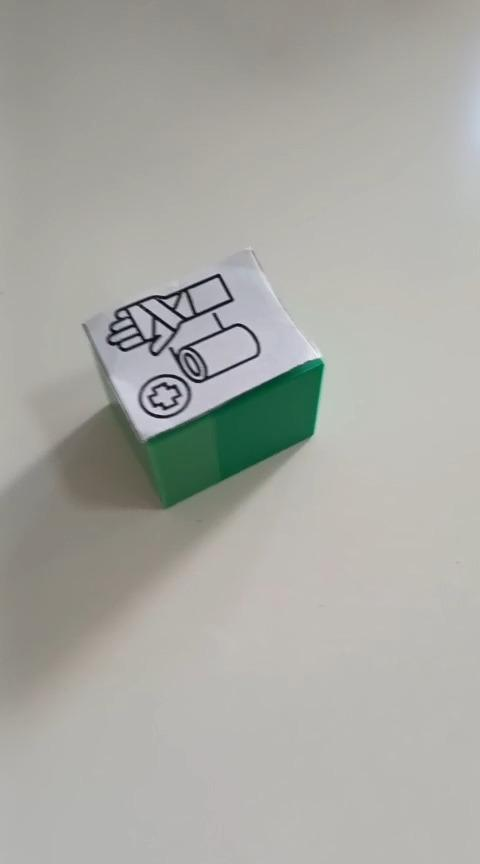Bandages: (80, 245, 325, 508)
